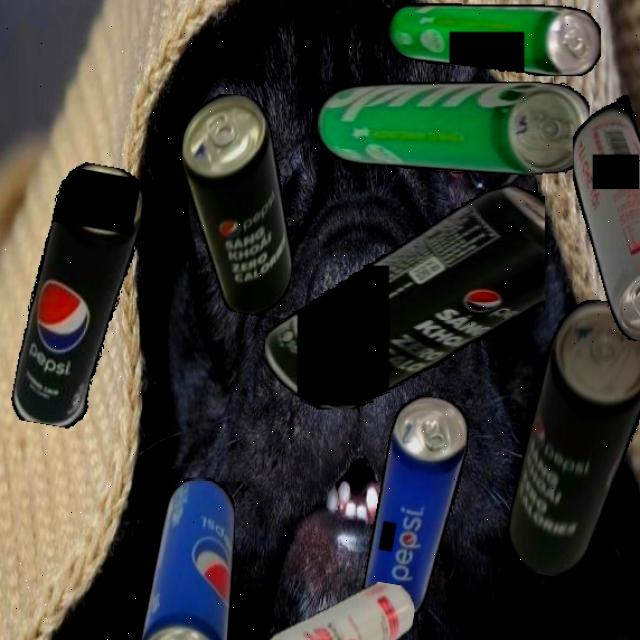debris: (265, 184, 545, 410), (501, 292, 640, 587), (9, 158, 150, 434), (154, 87, 320, 320), (360, 392, 474, 626), (316, 82, 590, 175), (571, 93, 640, 341), (137, 476, 235, 640), (387, 1, 601, 76), (261, 565, 418, 640)
